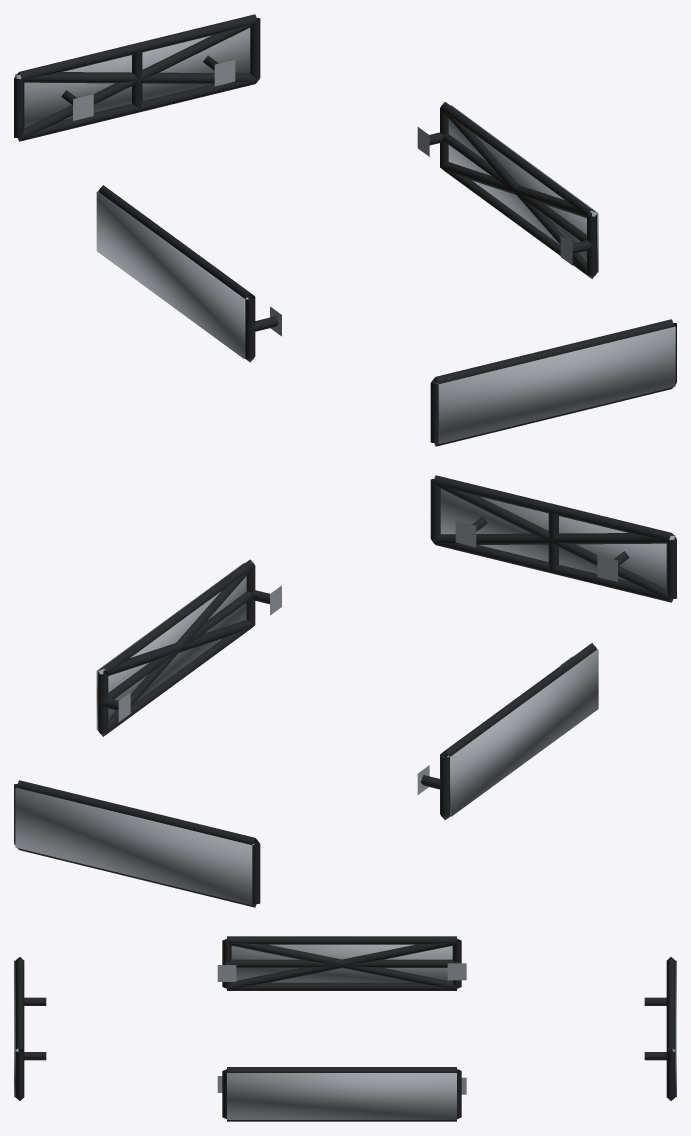
The model's file is hoshino_alca_protecao.glb.
3 renders of one model, top to bottom at view 1: azimuth 30°, elevation 25°; view 2: azimuth 150°, elevation 25°; view 3: azimuth 270°, elevation 25°, orthographic. The views are drawn at different scales.
Visible parts, largest first — view 1: Protection_front_Level3_Details, Protection_left_Level3_Details, Protection_rear_Level1_Details, Protection_rear_Level3_Details, Protection_right_Level1_Details, Protection_rear_Level2_Details, Protection_right_Level2_Details, Protection_right_Level3_Details, Protection_front_Level1_Details, Protection_left_Level1_Details; view 2: Protection_rear_Level3_Details, Protection_left_Level3_Details, Protection_front_Level1_Details, Protection_front_Level3_Details, Protection_right_Level1_Details, Protection_front_Level2_Details, Protection_right_Level2_Details, Protection_right_Level3_Details, Protection_rear_Level1_Details, Protection_left_Level1_Details; view 3: Protection_right_Level3_Details, Protection_left_Level2_Details, Protection_left_Level1_Details, Protection_left_Level3_Details, Protection_right_Level1_Details, Protection_rear_Level1_Details, Protection_front_Level1_Details.
Boxes of the visible parts, left/top/right/bottom form: Protection_front_Level3_Details: left=436, top=326, right=675, bottom=443; Protection_left_Level3_Details: left=96, top=191, right=248, bottom=358; Protection_rear_Level1_Details: left=14, top=14, right=260, bottom=141; Protection_rear_Level3_Details: left=15, top=28, right=250, bottom=128; Protection_right_Level1_Details: left=417, top=102, right=597, bottom=278; Protection_rear_Level2_Details: left=16, top=22, right=257, bottom=140; Protection_right_Level2_Details: left=440, top=109, right=596, bottom=278; Protection_right_Level3_Details: left=448, top=105, right=598, bottom=272; Protection_front_Level1_Details: left=430, top=319, right=676, bottom=446; Protection_left_Level1_Details: left=98, top=185, right=281, bottom=362; Protection_rear_Level3_Details: left=15, top=787, right=254, bottom=904; Protection_left_Level3_Details: left=446, top=649, right=598, bottom=816; Protection_front_Level1_Details: left=430, top=475, right=676, bottom=602; Protection_front_Level3_Details: left=440, top=489, right=675, bottom=589; Protection_right_Level1_Details: left=98, top=559, right=281, bottom=736; Protection_front_Level2_Details: left=433, top=483, right=674, bottom=601; Protection_right_Level2_Details: left=99, top=566, right=254, bottom=736; Protection_right_Level3_Details: left=96, top=563, right=246, bottom=730; Protection_rear_Level1_Details: left=14, top=780, right=260, bottom=907; Protection_left_Level1_Details: left=417, top=643, right=596, bottom=819; Protection_right_Level3_Details: left=227, top=1073, right=456, bottom=1119; Protection_left_Level2_Details: left=226, top=939, right=457, bottom=988; Protection_left_Level1_Details: left=217, top=936, right=466, bottom=990; Protection_left_Level3_Details: left=231, top=944, right=452, bottom=982; Protection_right_Level1_Details: left=217, top=1067, right=466, bottom=1121; Protection_rear_Level1_Details: left=644, top=957, right=675, bottom=1100; Protection_front_Level1_Details: left=15, top=957, right=46, bottom=1100.
Size of the model in its own units: 1.88 by 0.354 by 3.89.
Materials: 1 (1 with a texture image).
